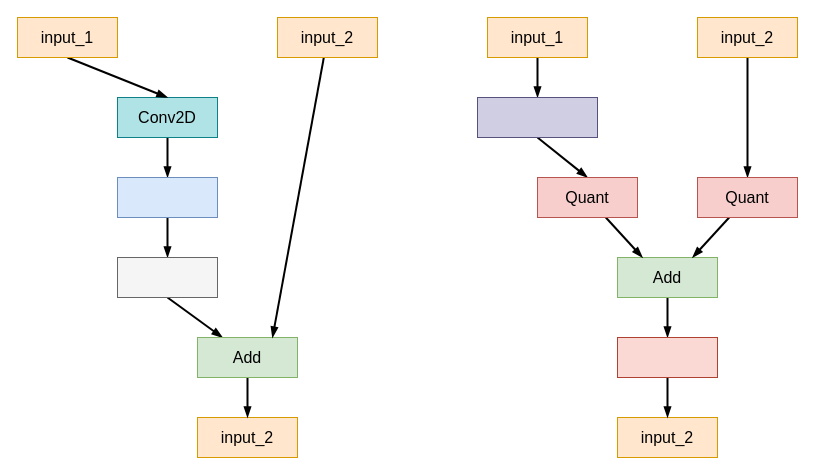
Image size: 815x475. Some labels were removed from this diagram. Each missing label, with the centre of its shape:
BatchNorm: (167,197)
ConvBnReLU: (537,117)
DeQuant: (667,357)
ReLU: (167,277)
